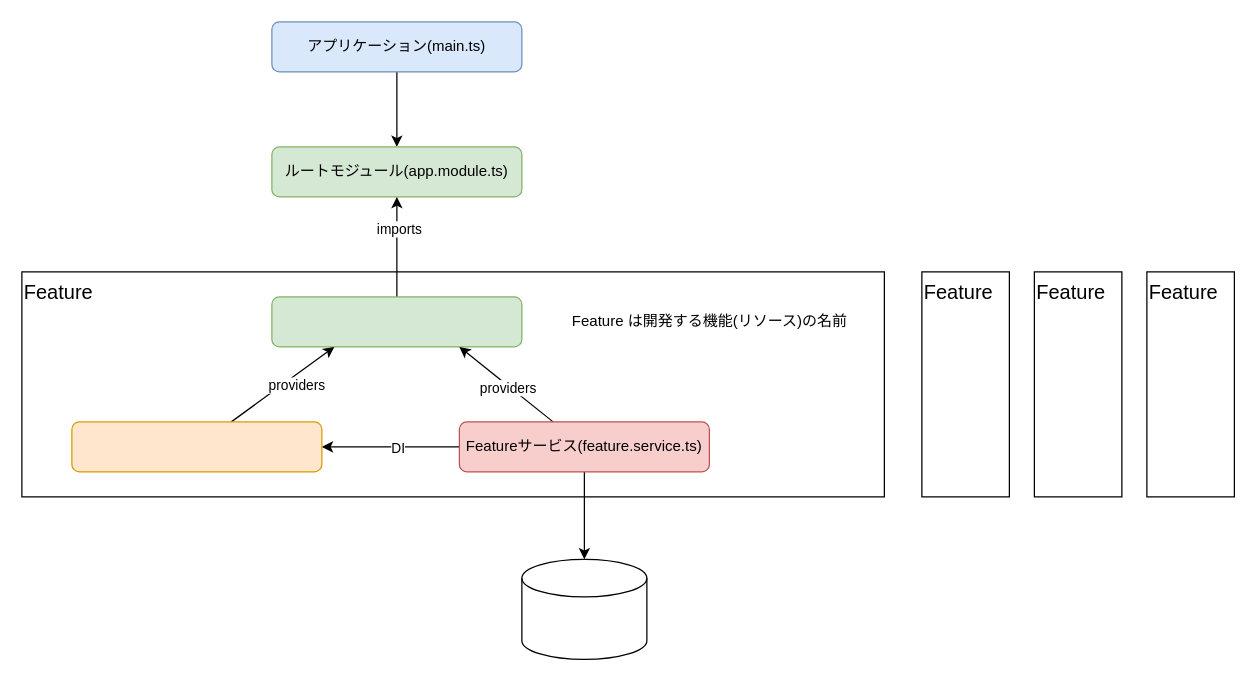
Some shapes in this 1256 by 681 pixel diagram are drawn without their labels. The shapes that lost their labels are listed below. From the top down, each one's centre as x and y in pixels, then its label:
At point 396,321: "Featureモジュール(feature.module.ts)".
At point 196,446: "Featureリゾルバー(feature.resolver.ts)".
At point 584,608: "DB等".
